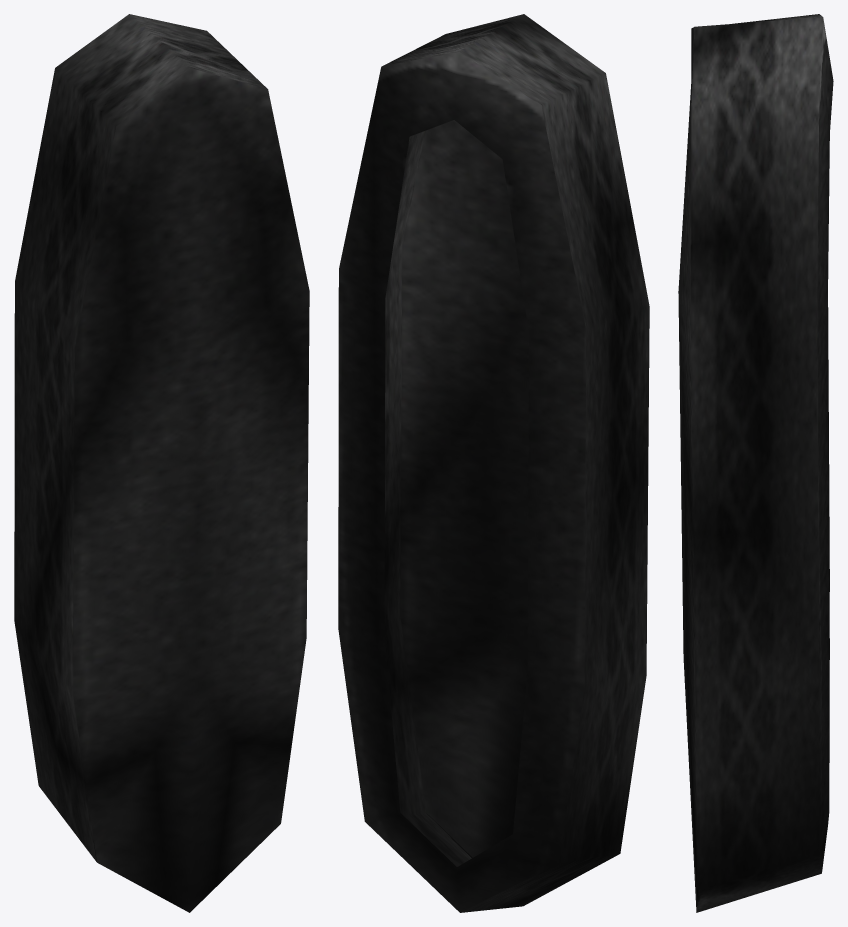
The model's file is Recoil_Pad.fbx.
The picture shows the model from 3 angles, left to right: view 1: azimuth 30°, elevation 25°; view 2: azimuth 150°, elevation 25°; view 3: azimuth 270°, elevation 25°; orthographic projection. The views are drawn at different scales.
Parts seen in each view (by area): view 1: Recoil_Pad; view 2: Recoil_Pad; view 3: Recoil_Pad.
Boxes of the visible parts, <box> form: Recoil_Pad: <box>14,14,309,912</box>; Recoil_Pad: <box>338,14,649,912</box>; Recoil_Pad: <box>678,14,833,912</box>.
Size of the model in its own units: 0.0226 by 0.0124 by 0.0788.
